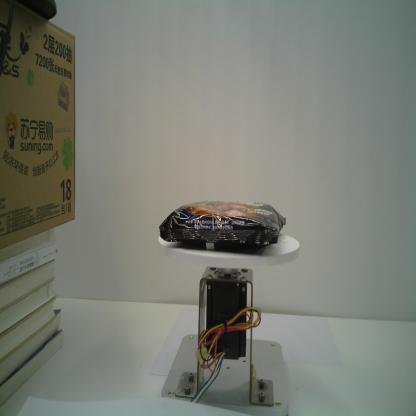Instant Noodles: (160, 197, 286, 252)
